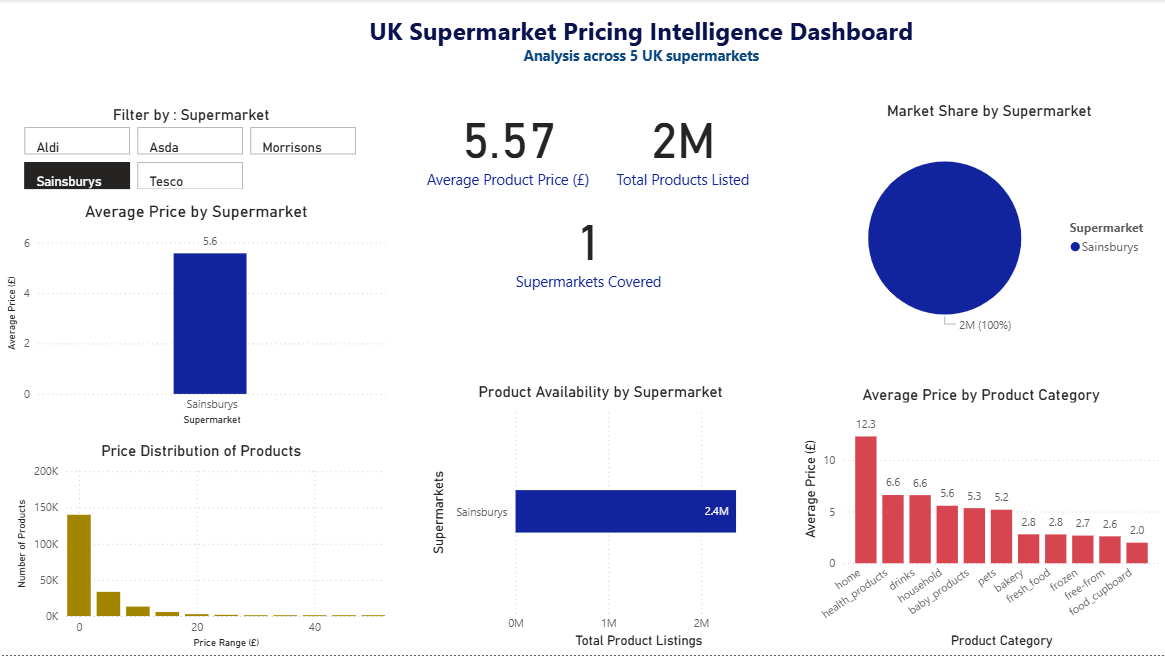

The page's visual inventory and layout, read from the dashboard file:
{"tool":"powerbi","page":{"name":"Page 1","canvas":[1280,720],"ordinal":0},"visuals":[{"type":"card","fields":{"Values":["Avg(clean_data.AVG_PRICE)"]},"box":[455.6,104.3,204.5,111.1],"z":0},{"type":"card","fields":{"Values":["Count(clean_data.SUPERMARKET)"]},"box":[558.5,215.4,175.6,111.1],"z":1000},{"type":"card","fields":{"Values":["Sum(clean_data.TOTAL_PRODUCTS)"]},"box":[660,104.3,179.8,111.1],"z":2000},{"type":"clusteredColumnChart","title":"Average Price by Supermarket","fields":{"Category":["clean_data.SUPERMARKET"],"Y":["Avg(clean_data.AVG_PRICE)"]},"box":[0,214.1,430.9,263.5],"z":3000},{"type":"clusteredBarChart","title":"Product Availability by Supermarket","fields":{"Category":["clean_data.SUPERMARKET"],"Y":["Sum(clean_data.TOTAL_PRODUCTS)"]},"box":[465.2,413,388.3,307.4],"z":4000},{"type":"clusteredColumnChart","title":"Price Distribution of Products","fields":{"Category":["processed_clean_data_2026-04-15-1959.Price (£) (bins)"],"Y":["CountNonNull(processed_clean_data_2026-04-15-1959.Price (£))"]},"box":[11,477.5,419.9,242.9],"z":5000},{"type":"pieChart","title":"Market Share by Supermarket","fields":{"Category":["clean_data.SUPERMARKET"],"Y":["Sum(clean_data.TOTAL_PRODUCTS)"]},"box":[891.9,104.3,388.3,292.3],"z":6000},{"type":"clusteredColumnChart","title":"Average Price by Product Category","fields":{"Category":["processed_clean_data_2026-04-15-1959.CATEGORY"],"Y":["Avg(processed_clean_data_2026-04-15-1959.Price (£))"]},"box":[874.1,415.8,406.2,304.6],"z":7000},{"type":"advancedSlicerVisual","fields":{"Values":["clean_data.SUPERMARKET"]},"box":[22,116.6,376,98.8],"z":8000},{"type":"textbox","box":[373.2,11,661.4,74.1],"z":9000}]}

Visuals, with their boxes in screenshot pixels (x1, y1, x2, y2), scaled from the page's 1280x720 canvas onto the 1165x656 screenshot:
card - Avg(clean_data.AVG_PRICE): 415 95 601 196
card - Count(clean_data.SUPERMARKET): 508 196 668 297
card - Sum(clean_data.TOTAL_PRODUCTS): 601 95 764 196
"Average Price by Supermarket" clusteredColumnChart: 0 195 392 435
"Product Availability by Supermarket" clusteredBarChart: 423 376 777 655
"Price Distribution of Products" clusteredColumnChart: 10 435 392 655
"Market Share by Supermarket" pieChart: 812 95 1164 361
"Average Price by Product Category" clusteredColumnChart: 796 379 1164 655
advancedSlicerVisual - clean_data.SUPERMARKET: 20 106 362 196
textbox: 340 10 942 78
